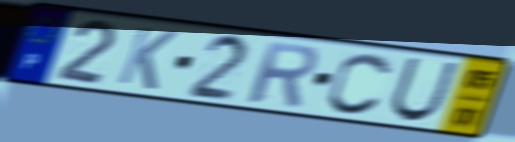2: (185, 32, 251, 105), (54, 18, 118, 88)
C: (325, 50, 396, 117)
K: (114, 23, 181, 93)
R: (245, 38, 321, 109)
U: (387, 55, 462, 124)
